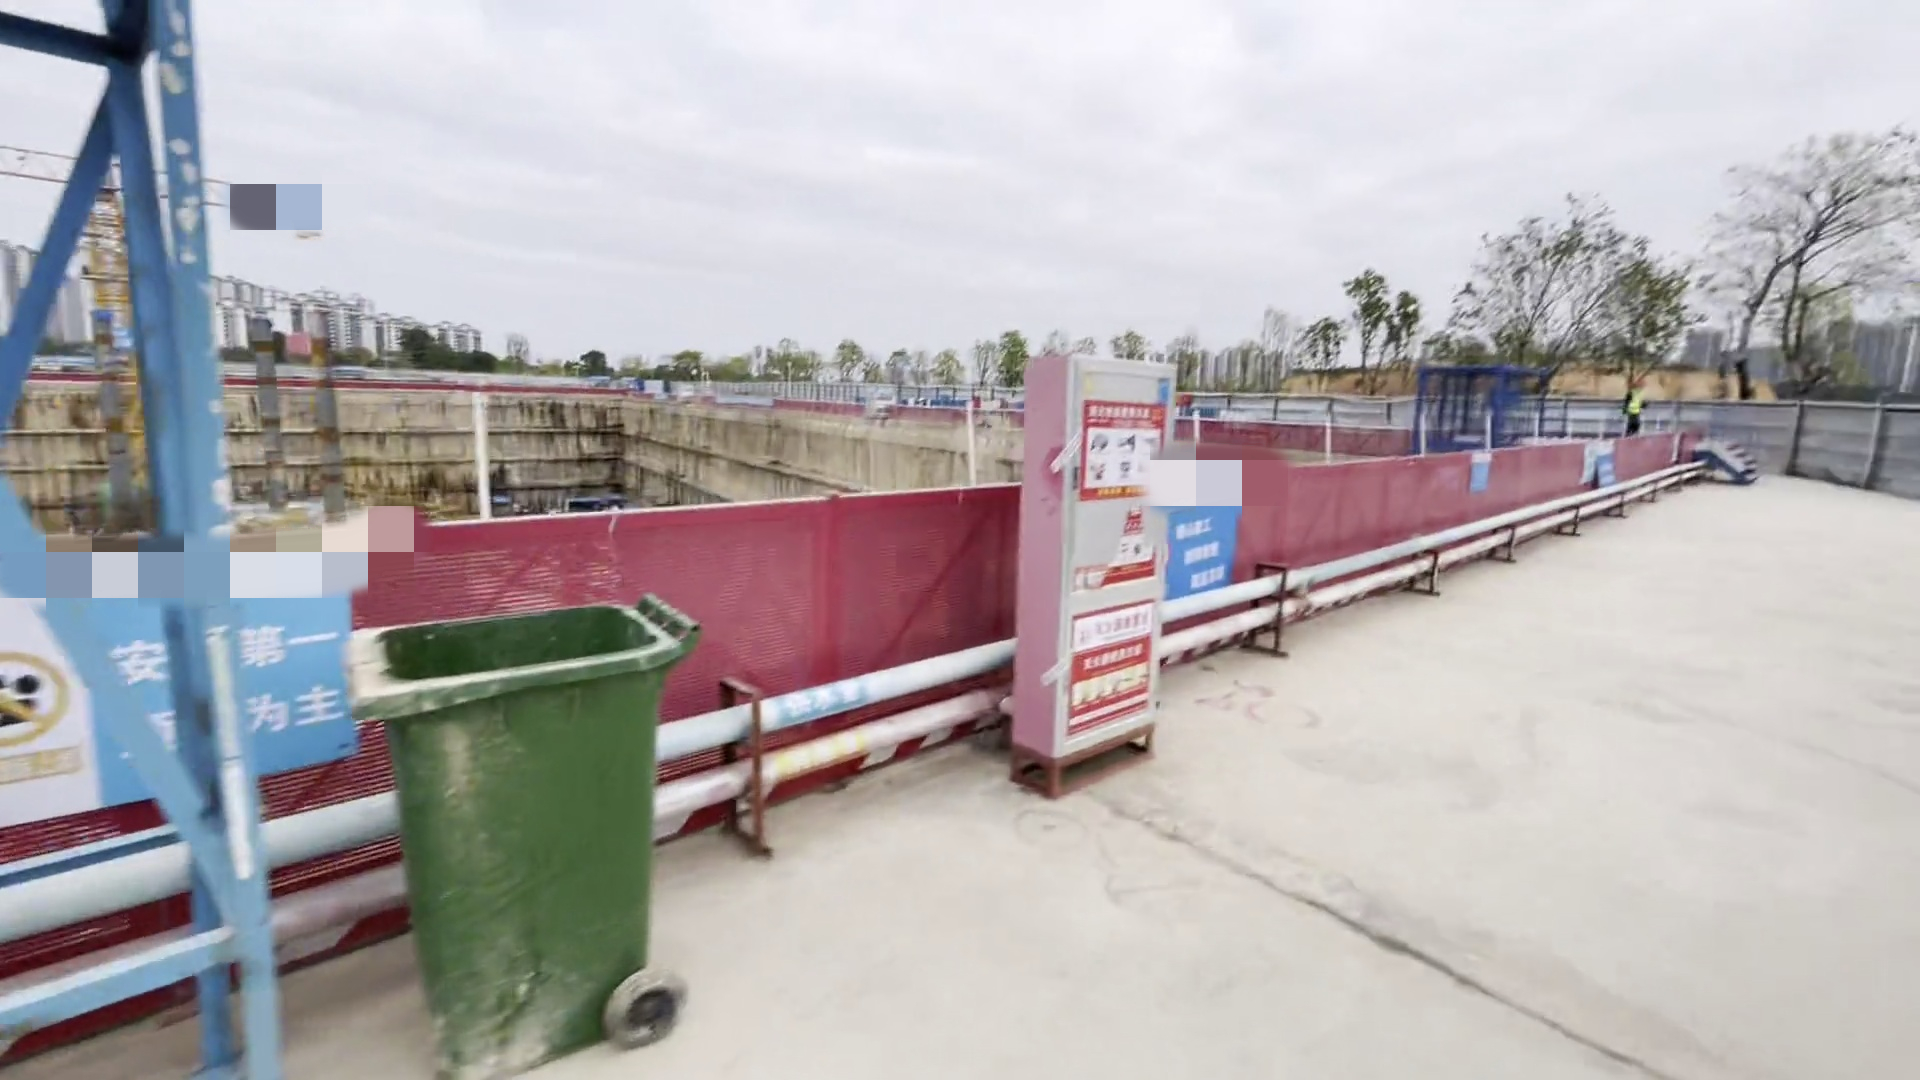fence: (216, 427, 1689, 819)
slogan: (102, 620, 357, 740), (1178, 520, 1242, 592)
vest: (1629, 386, 1644, 413)
